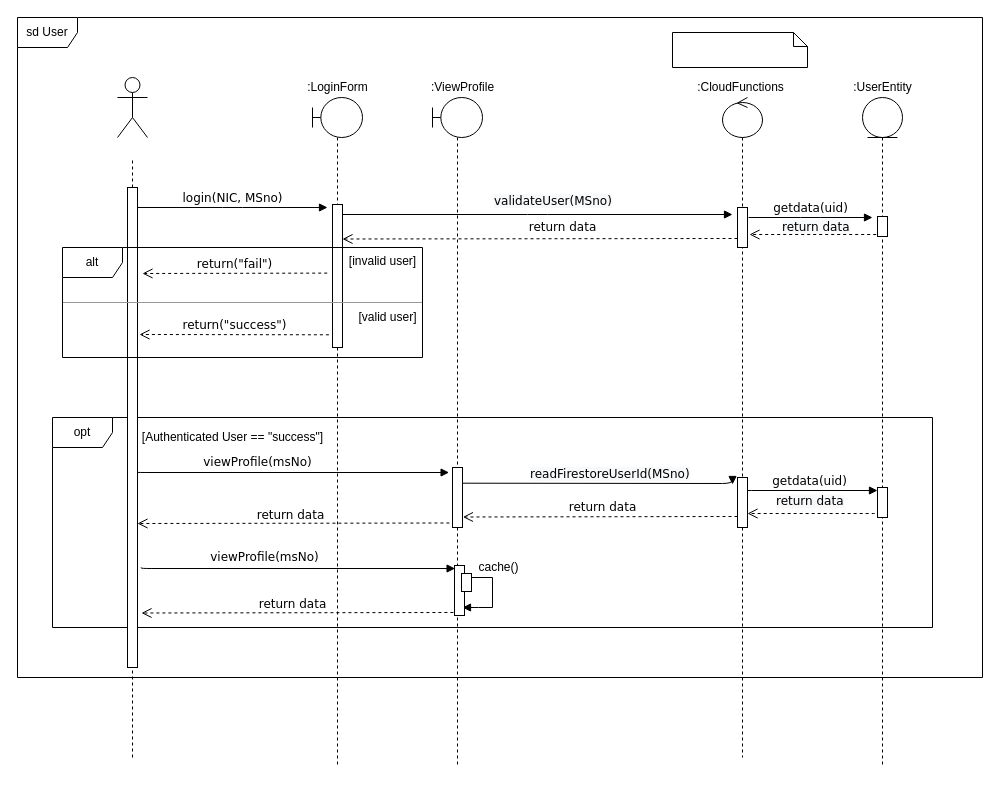
The diagram is 1000 pixels wide and 785 high, and some of its shapes have lost their labels. Here are the shapes that lost their labels. From the top down, the centre of each, then its label:
the point at 740,50: Cloud function Backend REST API
the point at 132,107: SLIIT Student
